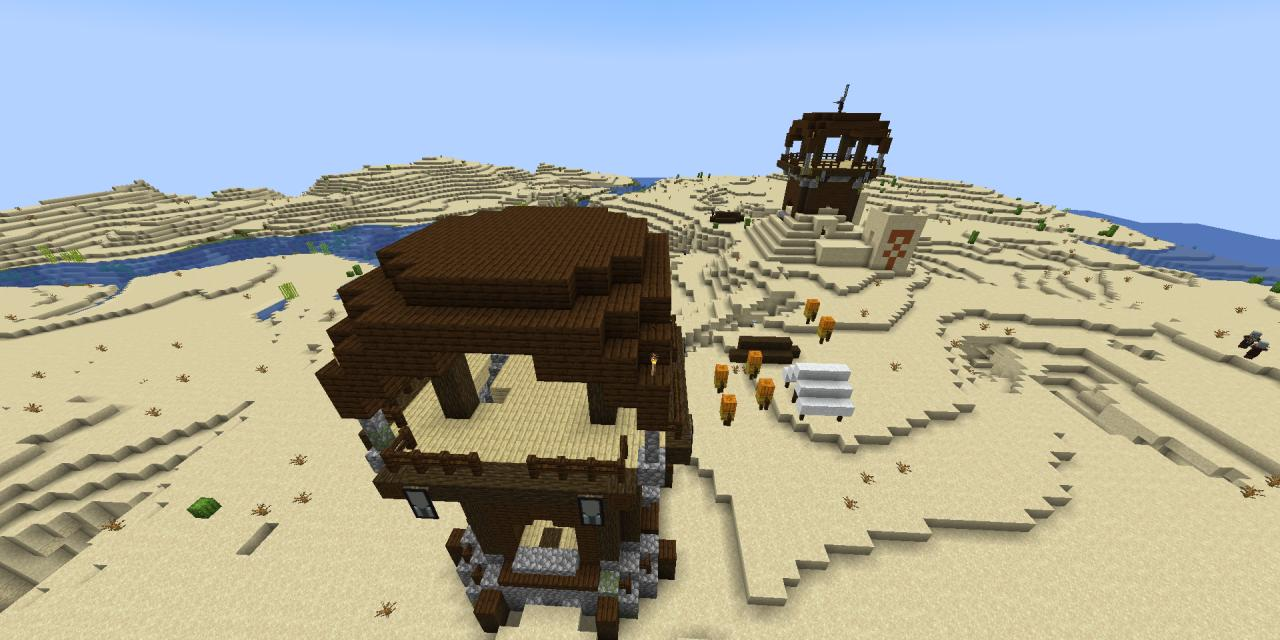desert temple: (734, 193, 928, 275)
pillager outpost: (306, 192, 706, 640), (772, 81, 914, 226)
